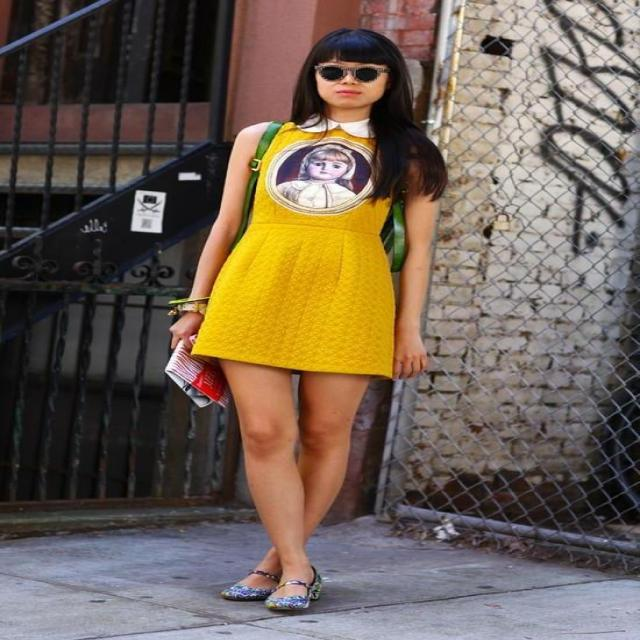dress: (192, 116, 396, 380)
